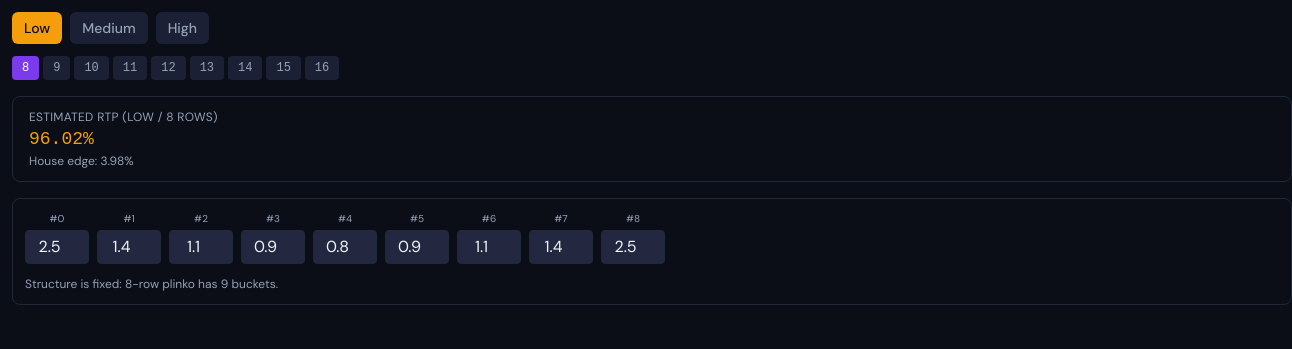
Scenario: PlinkoPayoutEditor › switches risk tab
Click the tab with test id "plinko-risk-high": click(182, 28) [156, 12, 209, 44]
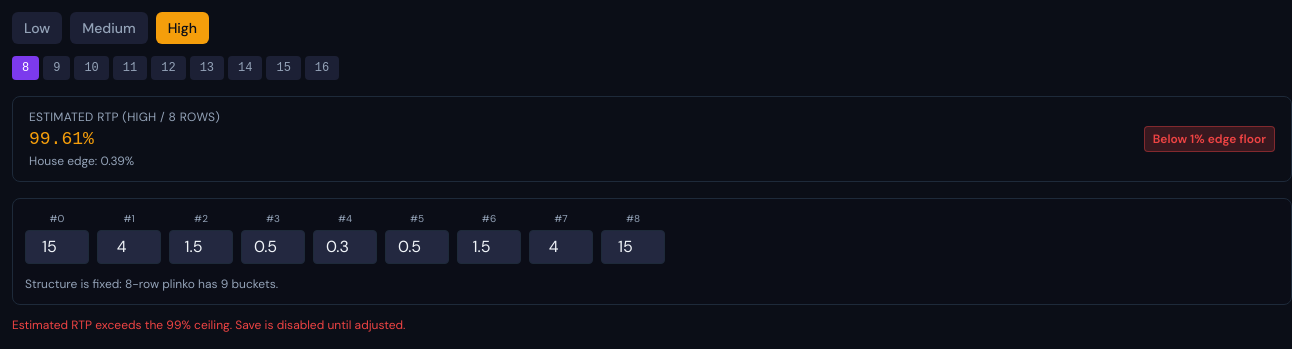
Expected: the number field with test id "plinko-input-high-8-0" is shown, [25, 230, 89, 264]
